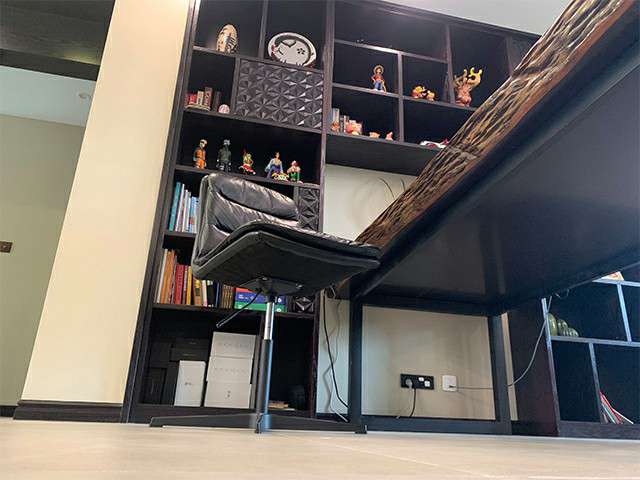cabinet: (124, 284, 640, 440)
stool: (149, 173, 381, 434)
table: (330, 2, 640, 442)
wire: (399, 369, 496, 418), (321, 295, 352, 420)
